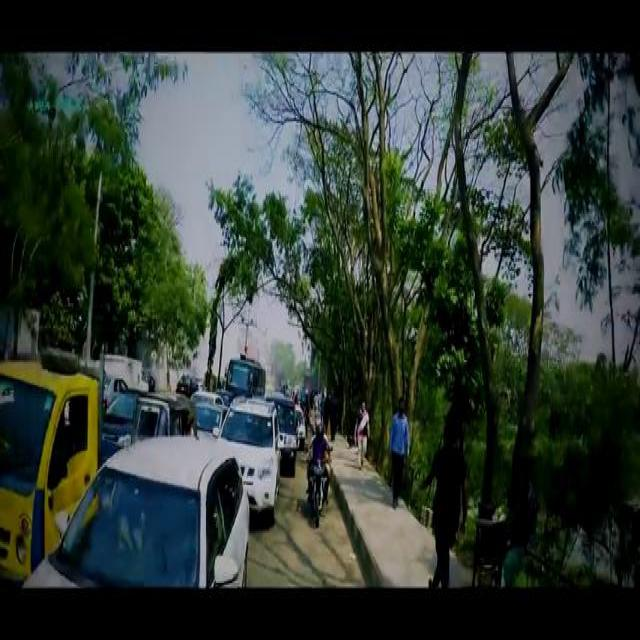bus: (222, 355, 266, 396)
car: (21, 429, 248, 584), (192, 399, 224, 434), (104, 366, 128, 402)
motorbike: (306, 453, 326, 524)
pickup: (0, 358, 101, 573)
suv: (216, 392, 280, 515), (264, 392, 296, 476)
three wheelers -CNG-: (132, 390, 196, 440)
